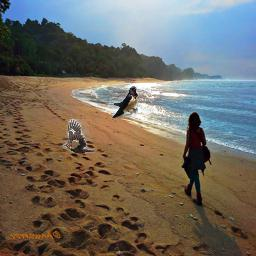Swallow: (98, 86, 138, 118)
Woodpecker: (62, 119, 95, 153)
